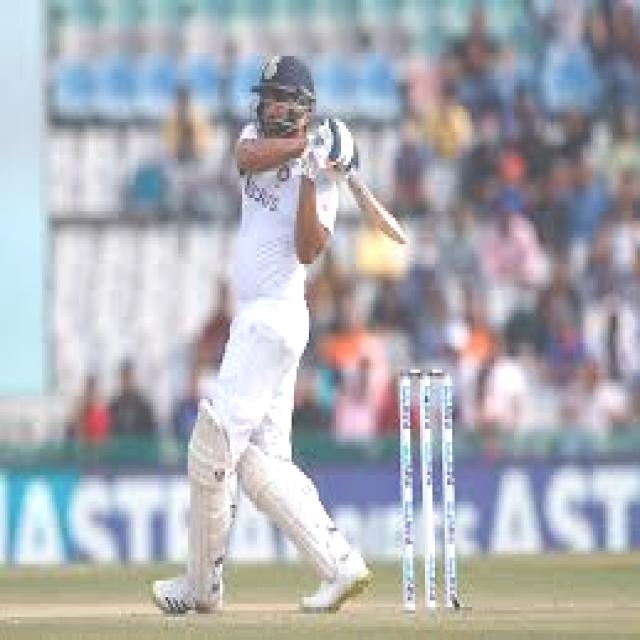toe: (387, 220, 412, 254)
